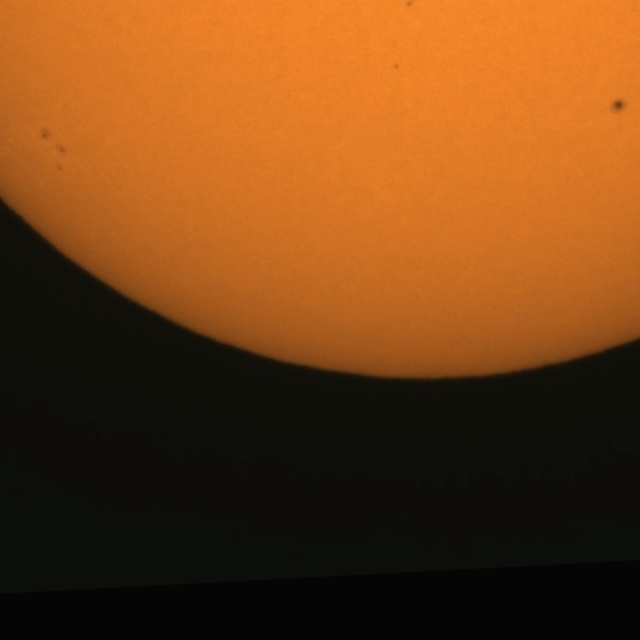sunspot: (41, 127, 67, 157), (53, 140, 67, 168), (608, 97, 628, 116), (41, 128, 50, 141), (404, 0, 414, 9), (392, 62, 400, 71), (56, 164, 64, 172)
